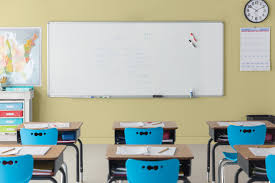desk: (102, 143, 195, 182), (14, 121, 79, 171), (0, 141, 64, 182), (204, 116, 274, 147), (112, 117, 178, 143)
